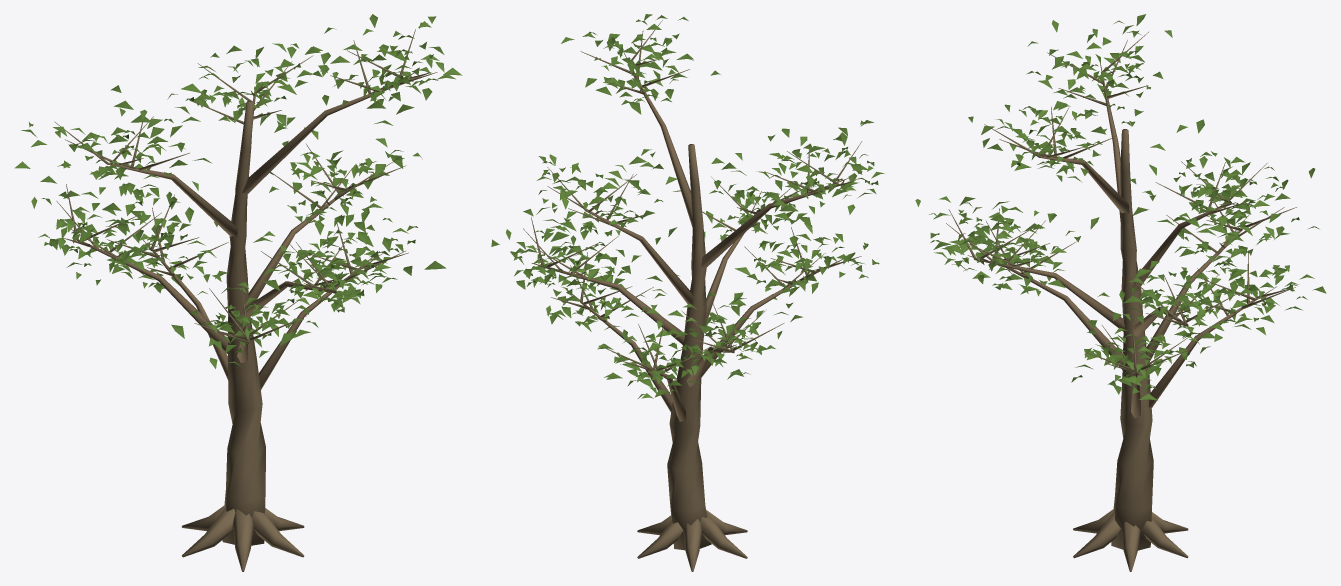
The model's file is hero_tree_lod1.glb.
The picture shows the model from 3 angles, left to right: view 1: azimuth 30°, elevation 25°; view 2: azimuth 150°, elevation 25°; view 3: azimuth 270°, elevation 25°; orthographic projection. The views are drawn at different scales.
Visible parts, largest first — view 1: hero_tree_lod1; view 2: hero_tree_lod1; view 3: hero_tree_lod1.
Boxes of the visible parts, x1,y1,x2,y2 form: hero_tree_lod1: (14,14,462,571); hero_tree_lod1: (491,14,884,571); hero_tree_lod1: (915,14,1326,571).
Size of the model in its own units: 3.87 by 4.71 by 3.62.
